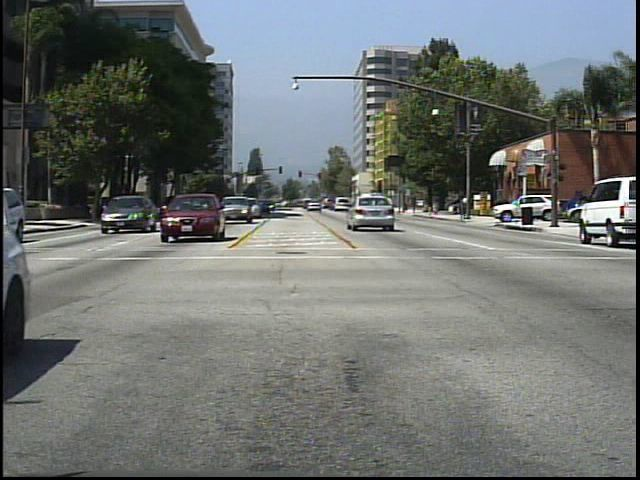person: (457, 189, 472, 221), (431, 190, 444, 217)
